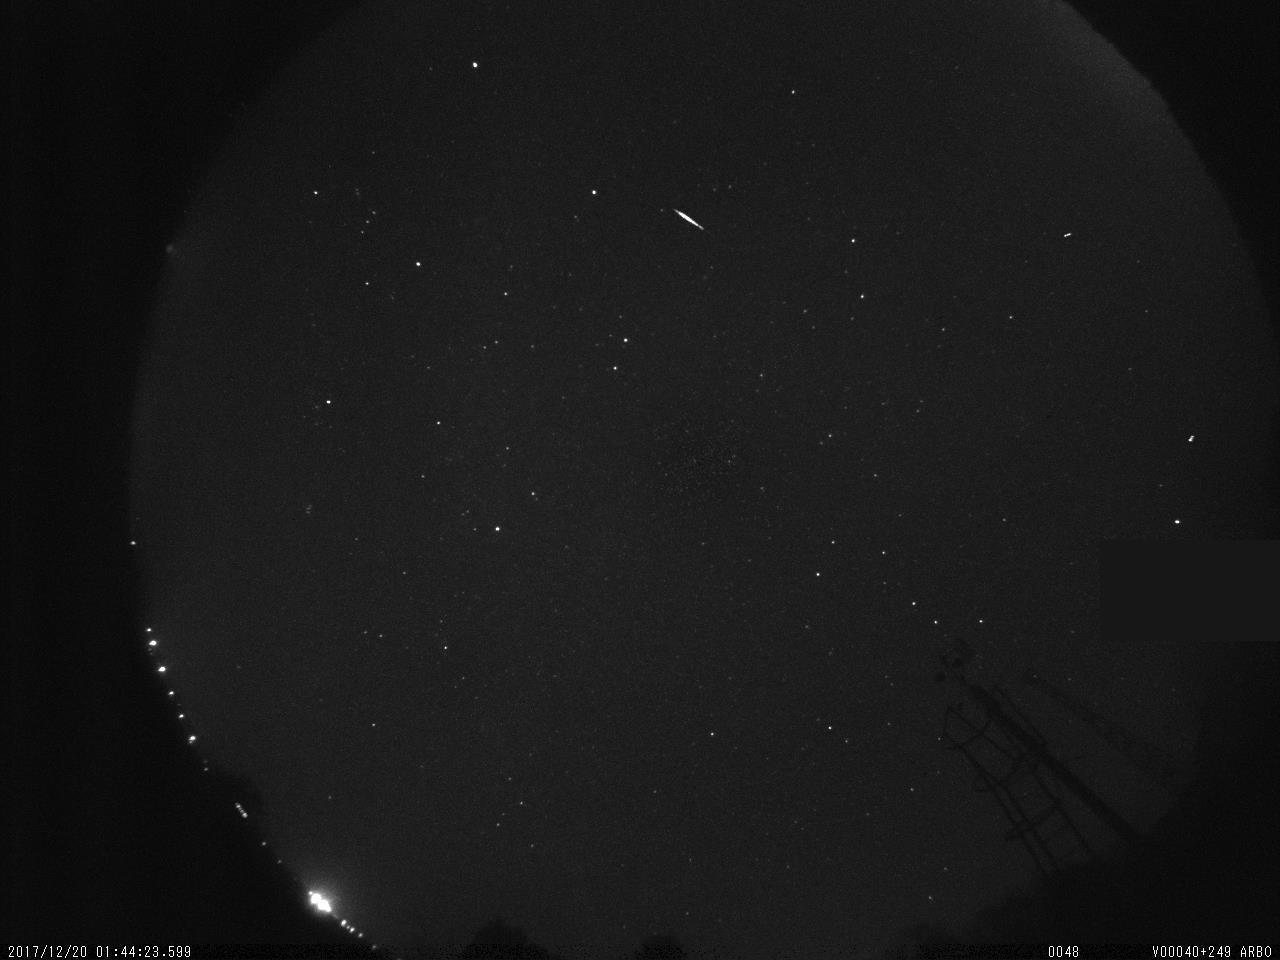Meteor: (674, 207, 703, 228)
